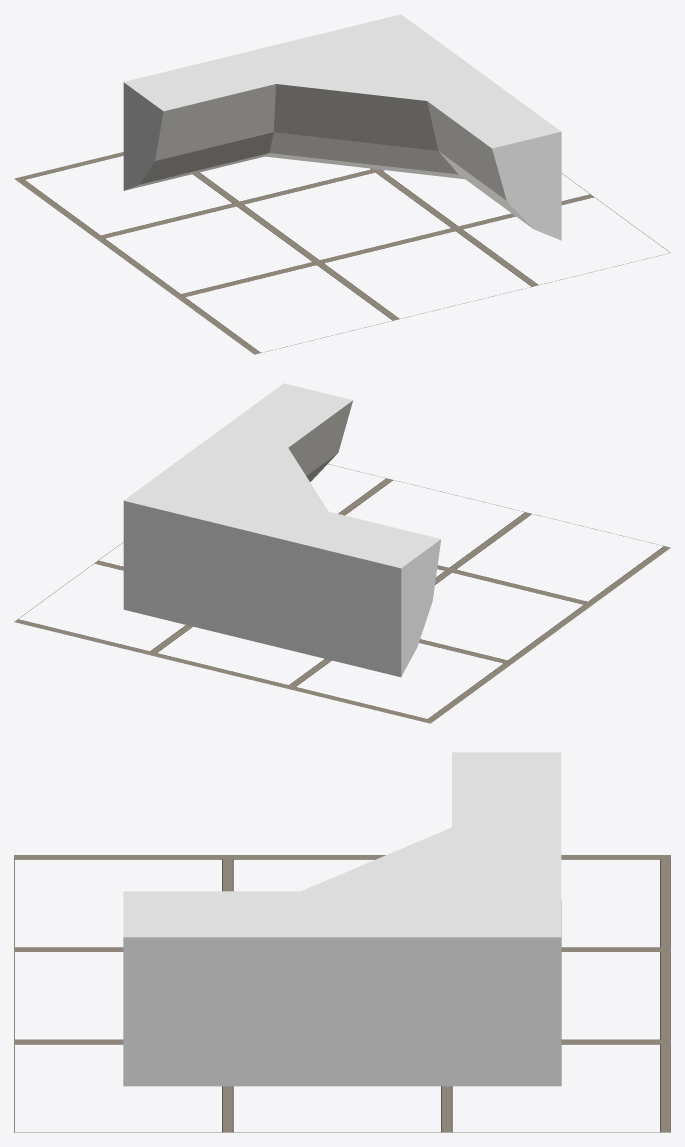
The model's file is Basic_Curve_Inner_2x2_Narrow_Under.glb.
3 views of the same model, one above another, from view 1: azimuth 30°, elevation 25°; view 2: azimuth 150°, elevation 25°; view 3: azimuth 270°, elevation 25° (orthographic). The views are drawn at different scales.
Parts seen in each view (by area): view 1: Basic_Curve_Inner_2x2_Narrow_Under, Floor; view 2: Basic_Curve_Inner_2x2_Narrow_Under, Floor; view 3: Basic_Curve_Inner_2x2_Narrow_Under, Floor.
Part boxes in pixels (x1,y1,x2,y2): Basic_Curve_Inner_2x2_Narrow_Under: [123, 14, 561, 240]; Floor: [14, 152, 670, 354]; Basic_Curve_Inner_2x2_Narrow_Under: [123, 383, 441, 677]; Floor: [14, 464, 670, 723]; Basic_Curve_Inner_2x2_Narrow_Under: [123, 752, 561, 1086]; Floor: [14, 855, 670, 1132].
Size of the model in its own units: 300 by 75 by 300.
Materials: 3 (1 with a texture image).
